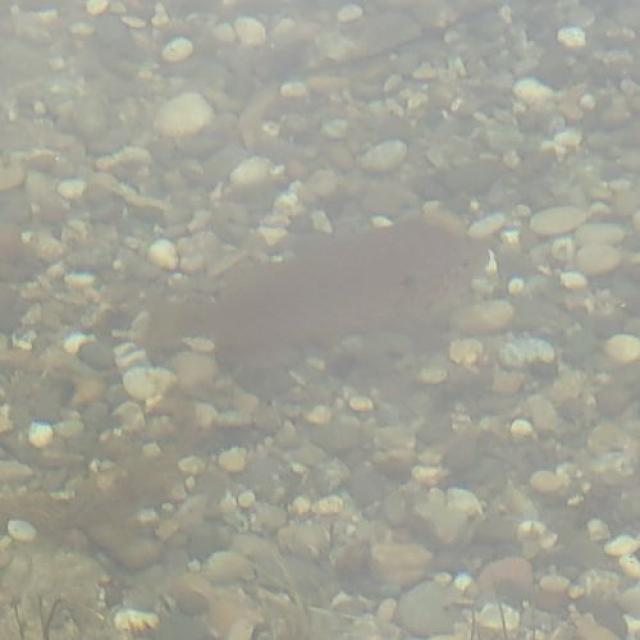Gunes Levregi: (129, 212, 515, 386)
